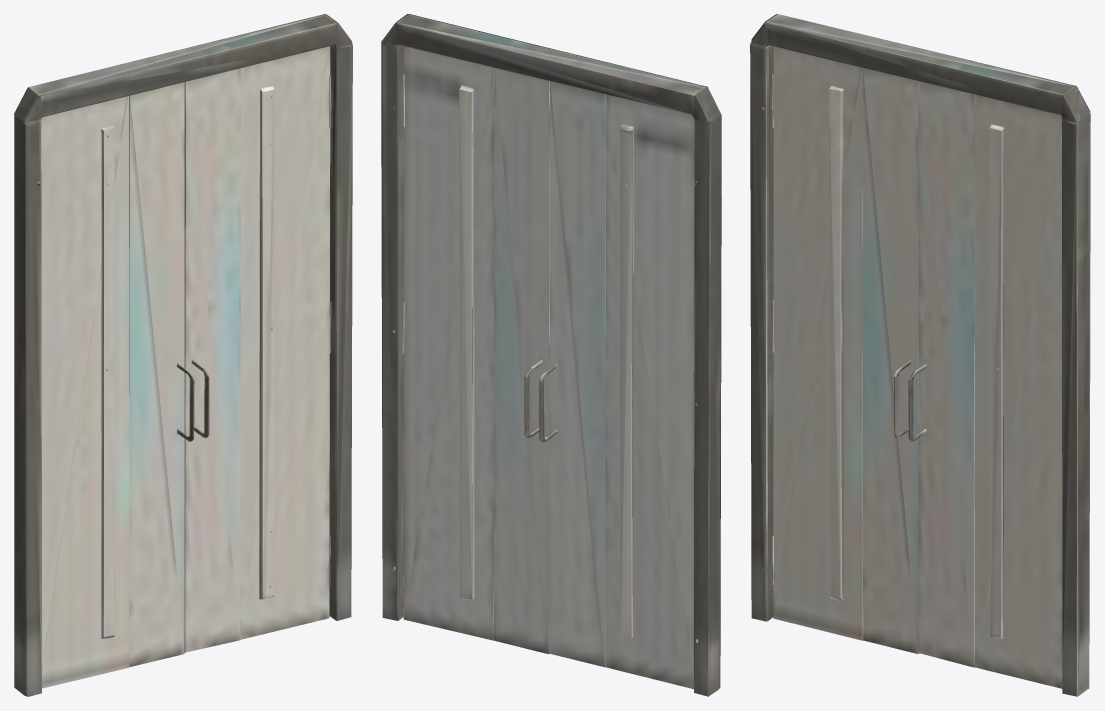
The model's file is sliding-door.lod1.glb.
The picture shows the model from 3 angles, left to right: view 1: azimuth 30°, elevation 25°; view 2: azimuth 150°, elevation 25°; view 3: azimuth 330°, elevation 25°; orthographic projection.
Bounding box in the file's own units: 1.5 × 2.6 × 0.3.
1 material, 1 textured.
